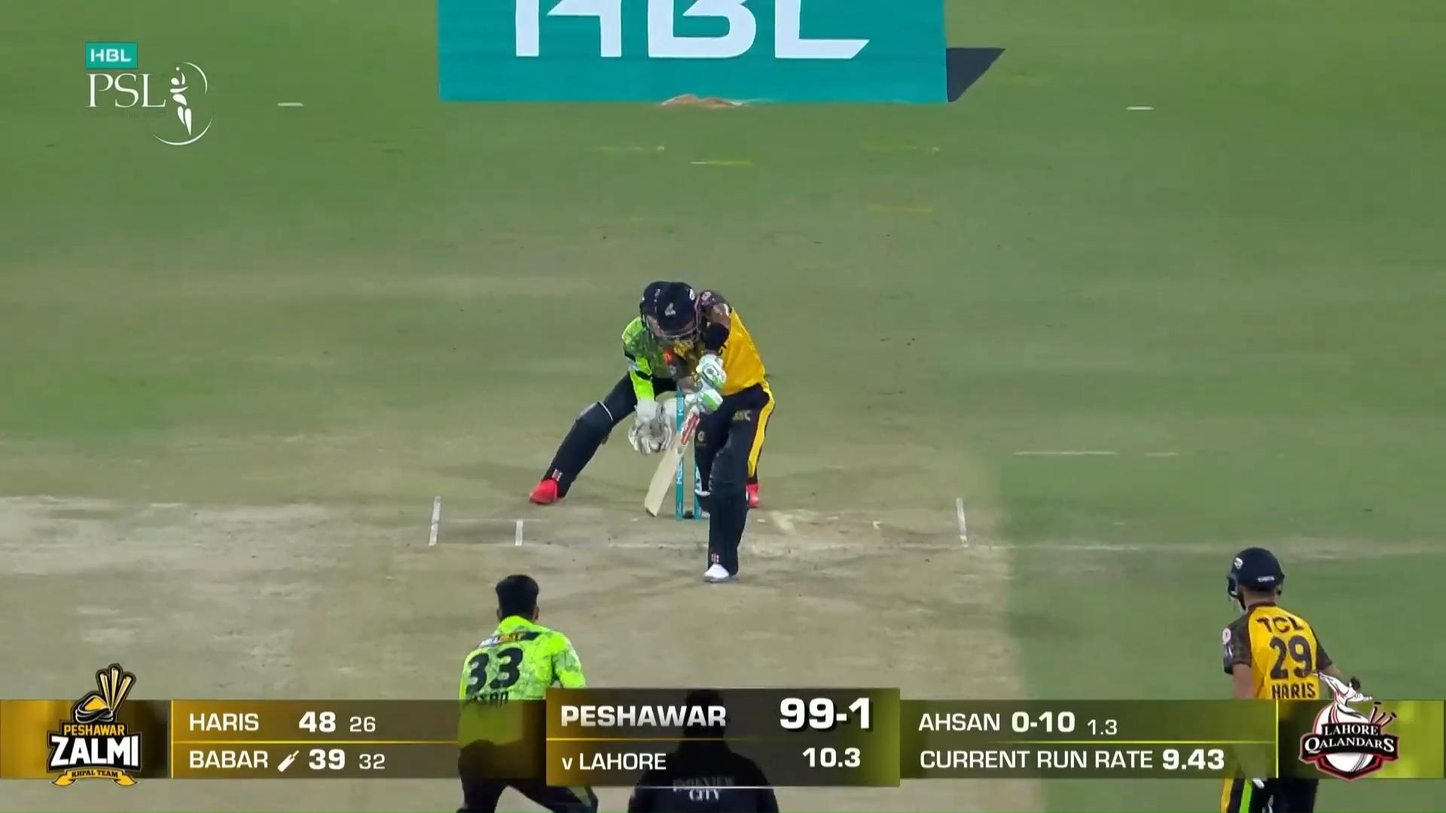batsman: (643, 281, 776, 581)
